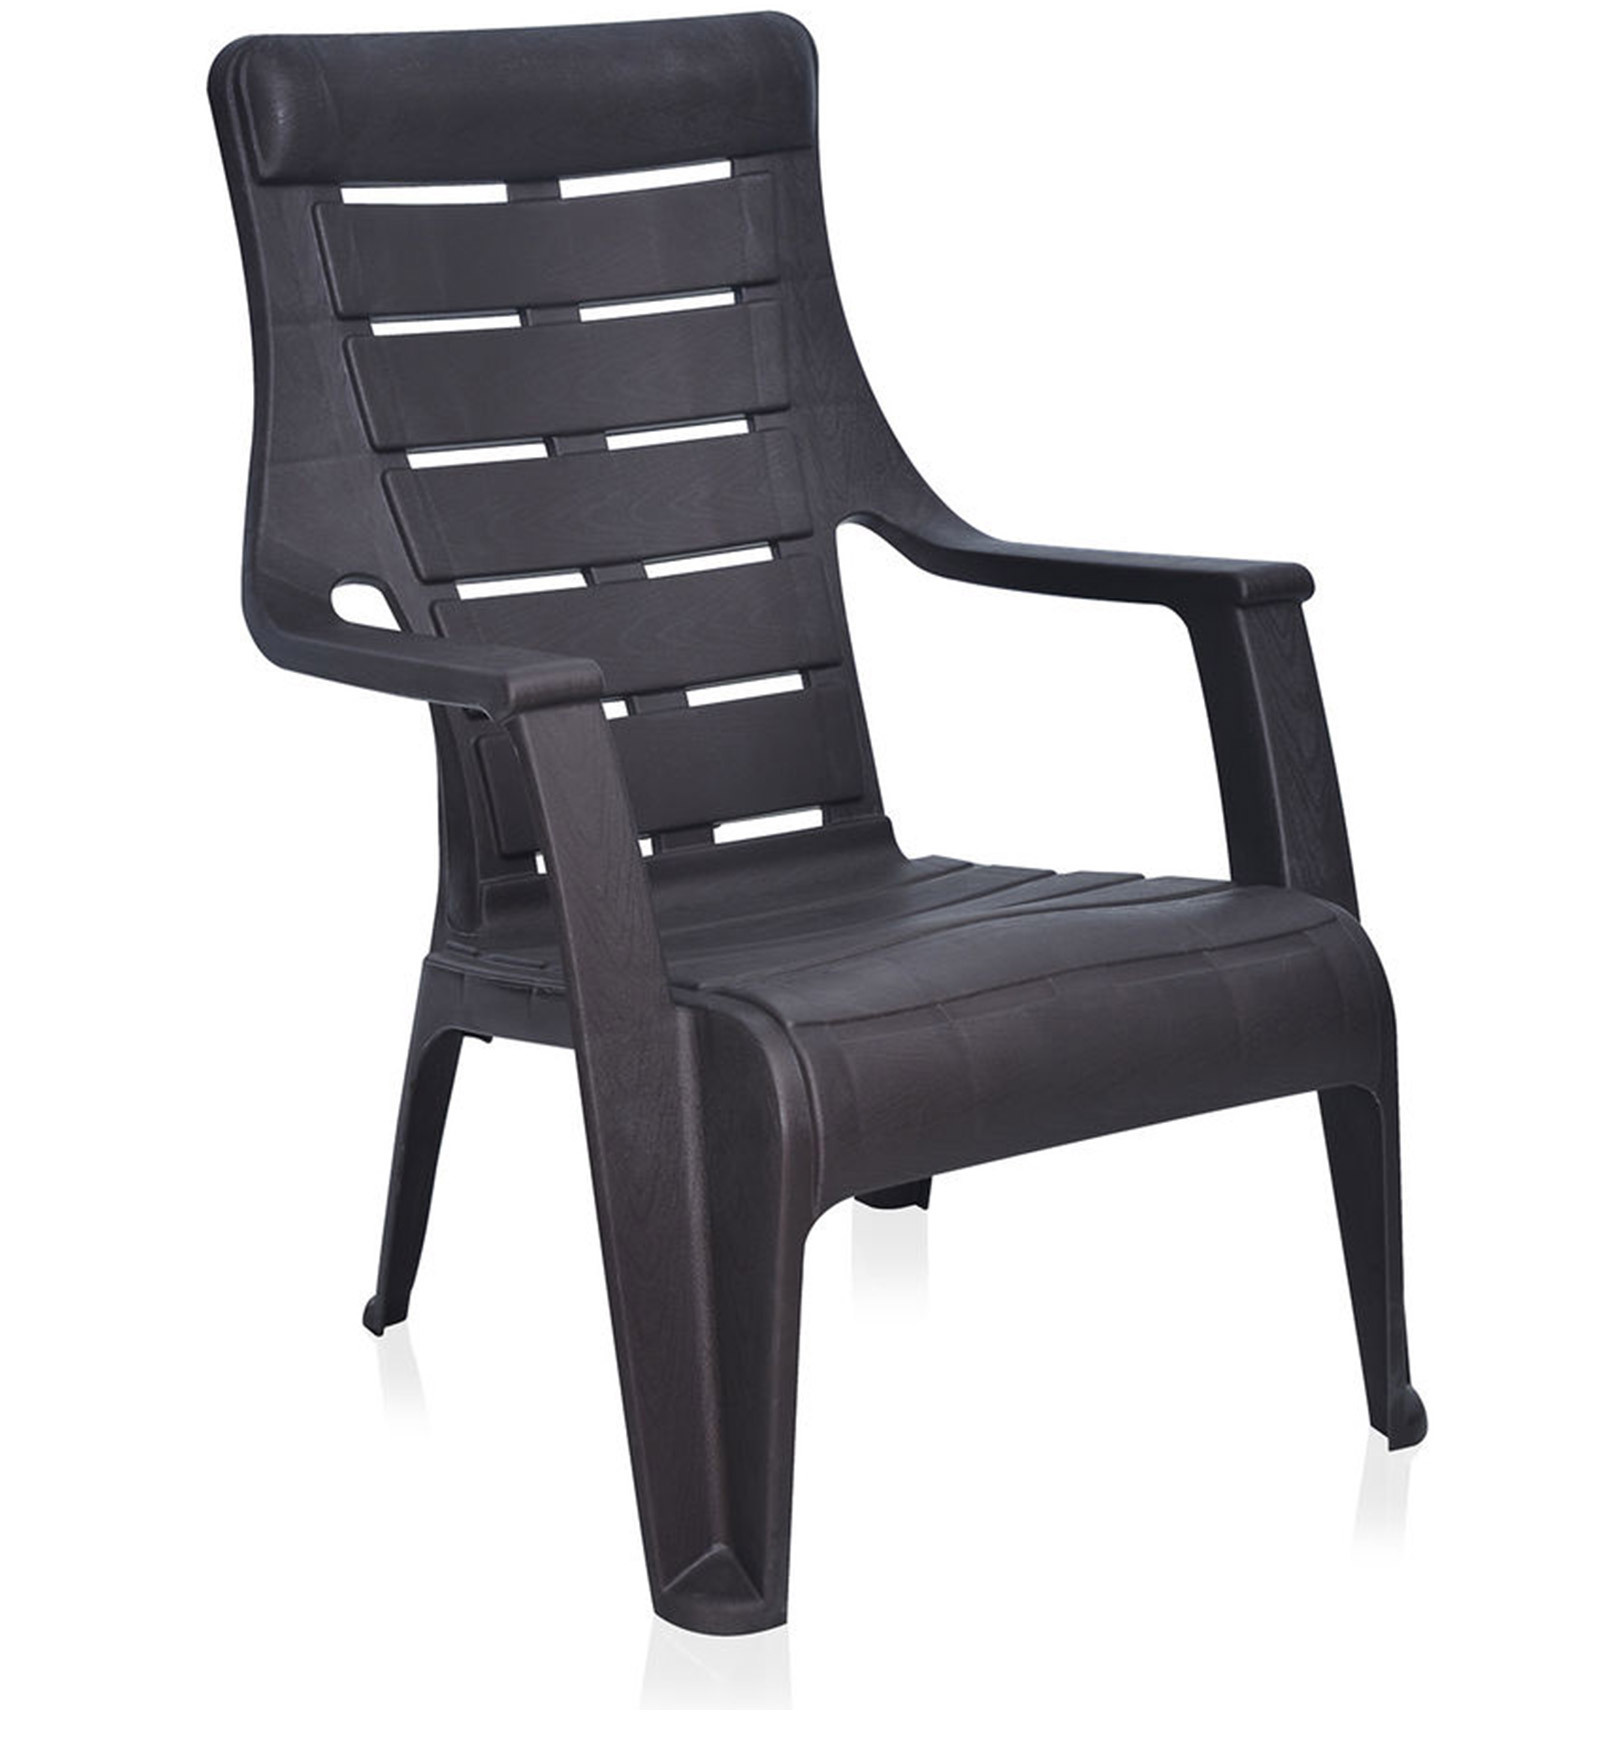Sunday Leisure Chair Set of 2 in Dark Brown Colour by Nilkamal: (166, 14, 1503, 1683)
